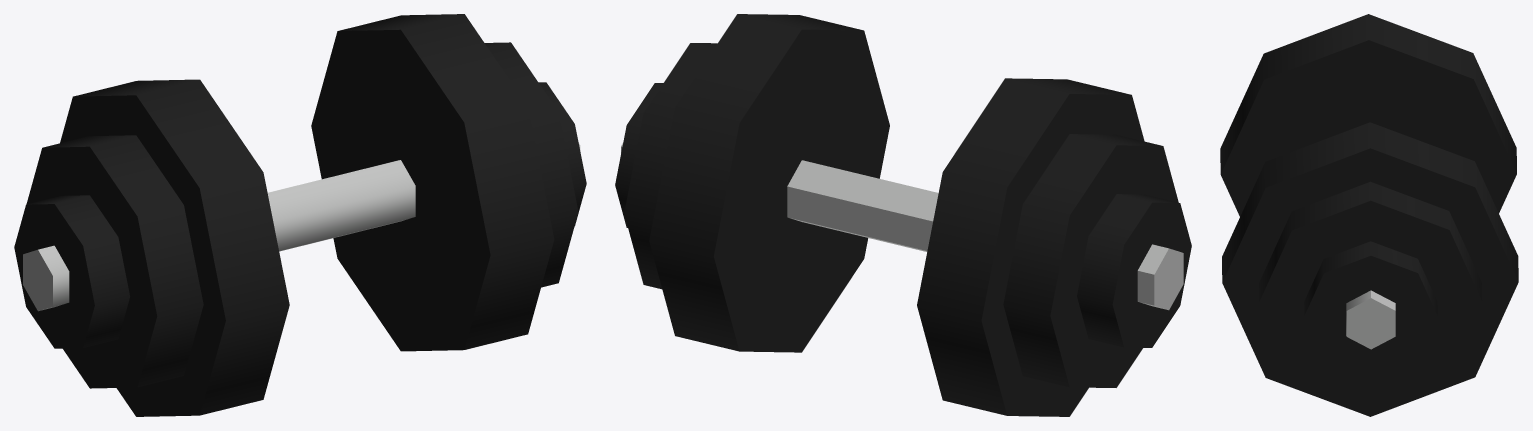
Rendered from SM_dumbbell_002.FBX.
3 renders of one model, left to right at view 1: azimuth 30°, elevation 25°; view 2: azimuth 150°, elevation 25°; view 3: azimuth 270°, elevation 25°, orthographic. The views are drawn at different scales.
Parts seen in each view (by area): view 1: SM_dumbbell_002; view 2: SM_dumbbell_002; view 3: SM_dumbbell_002.
Part boxes in pixels (left/top/right/bottom): SM_dumbbell_002: left=14, top=14, right=586, bottom=416; SM_dumbbell_002: left=615, top=14, right=1191, bottom=416; SM_dumbbell_002: left=1220, top=14, right=1518, bottom=416.
Bounding box in the file's own units: 39.94 × 23.33 × 23.18.
